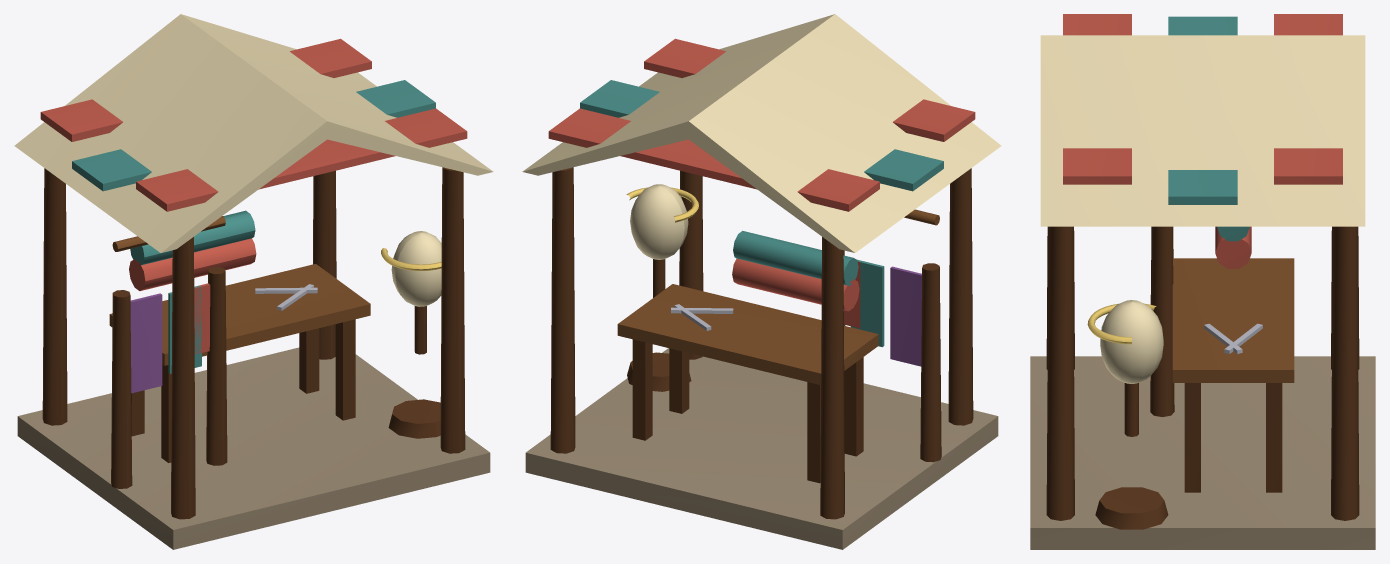
Rendered from tailor.glb.
3 views of the same model, side by side, from view 1: azimuth 30°, elevation 25°; view 2: azimuth 150°, elevation 25°; view 3: azimuth 270°, elevation 25° (orthographic). The views are drawn at different scales.
Parts seen in each view (by area): view 1: tailor-floor, roof, bench-top, post-fr, roof-stripe-2, post-fl, post-bl, roof-stripe-0, rod-post-1, roof-stripe-1, rod-post-2, hang-violet (+12 smaller); view 2: tailor-floor, roof, bench-top, post-br, roof-stripe-0, post-bl, post-fl, roof-stripe-2, rod-post-1, roof-stripe-1, dummy-torso, hang-violet (+9 smaller); view 3: roof, tailor-floor, bench-top, post-fr, post-br, roof-stripe-0, roof-stripe-2, dummy-torso, roof-stripe-1, rod-post-2, dummy-base, bench-leg-2 (+6 smaller).
Boxes of the visible parts, x1,y1,x2,y2 form: tailor-floor: (17,347,490,549); roof: (14,14,493,252); bench-top: (109,264,370,365); post-fr: (440,167,465,453); roof-stripe-2: (136,108,467,211); post-fl: (171,237,195,519); post-bl: (42,168,67,425); roof-stripe-0: (40,38,371,141); rod-post-1: (111,290,132,488); roof-stripe-1: (72,80,435,191); rod-post-2: (206,266,227,465); hang-violet: (130,293,162,393); tailor-floor: (525,348,998,549); roof: (522,14,1001,252); bench-top: (617,284,878,385); post-br: (550,167,575,453); roof-stripe-0: (548,108,879,211); post-bl: (820,237,844,519); post-fl: (948,168,973,425); roof-stripe-2: (644,38,975,141); rod-post-1: (920,263,941,462); roof-stripe-1: (580,80,943,191); dummy-torso: (630,184,688,259); hang-violet: (890,266,921,366); roof: (1040,35,1365,226); tailor-floor: (1030,356,1375,549); bench-top: (1172,258,1294,382); post-fr: (1046,226,1074,520); post-br: (1331,226,1359,520); roof-stripe-0: (1274,14,1342,184); roof-stripe-2: (1063,14,1131,184); dummy-torso: (1100,300,1163,383); roof-stripe-1: (1168,16,1237,204); rod-post-2: (1150,226,1174,416); dummy-base: (1095,487,1168,529); bench-leg-2: (1266,383,1282,492).
Size of the model in its own units: 2.12 by 2.33 by 1.7.
